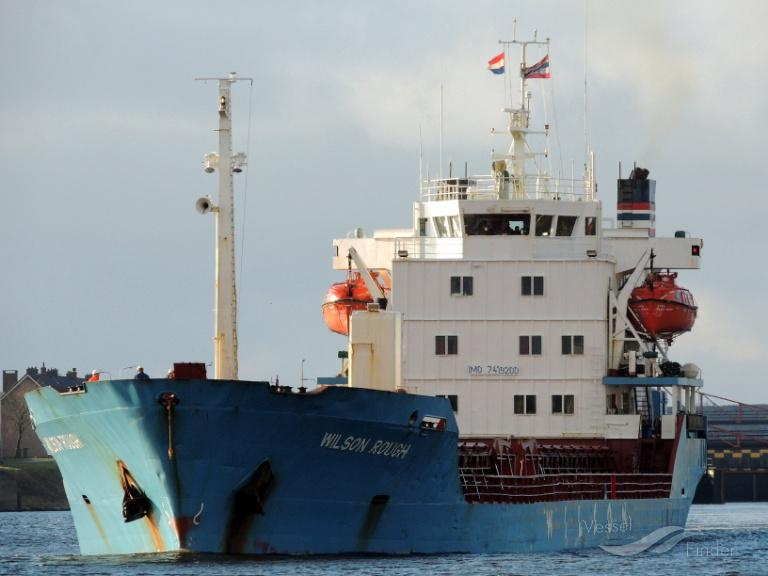OCR: (526, 502, 634, 546), (320, 422, 426, 466), (38, 430, 86, 455), (464, 360, 524, 376)
